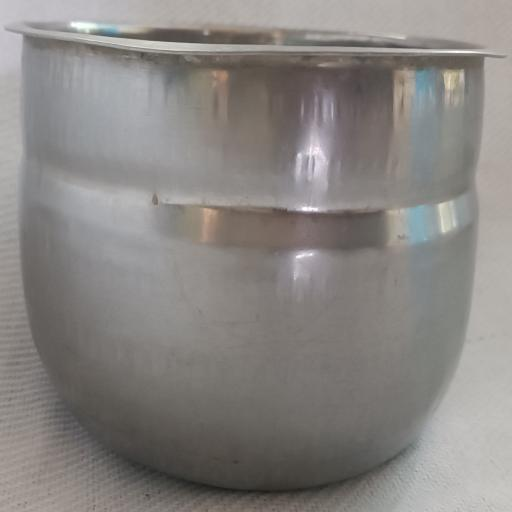vessel: (9, 23, 494, 489)
